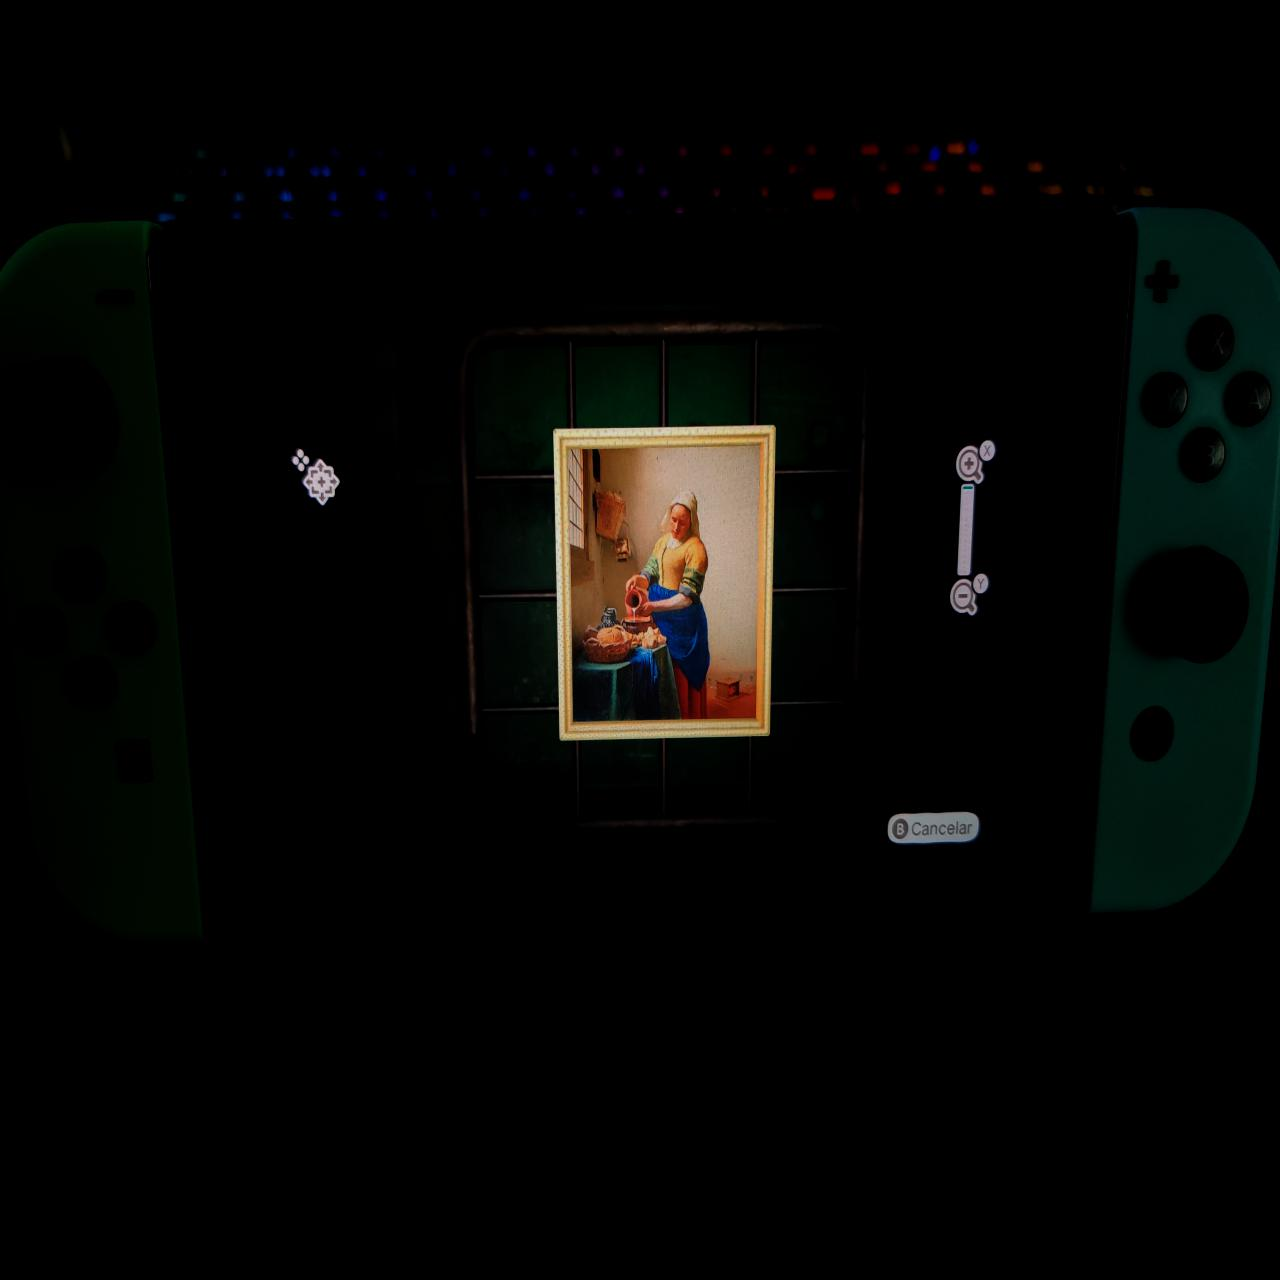Milkmaid: (570, 449, 758, 719)
